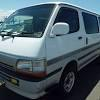Van: (0, 1, 99, 92)
